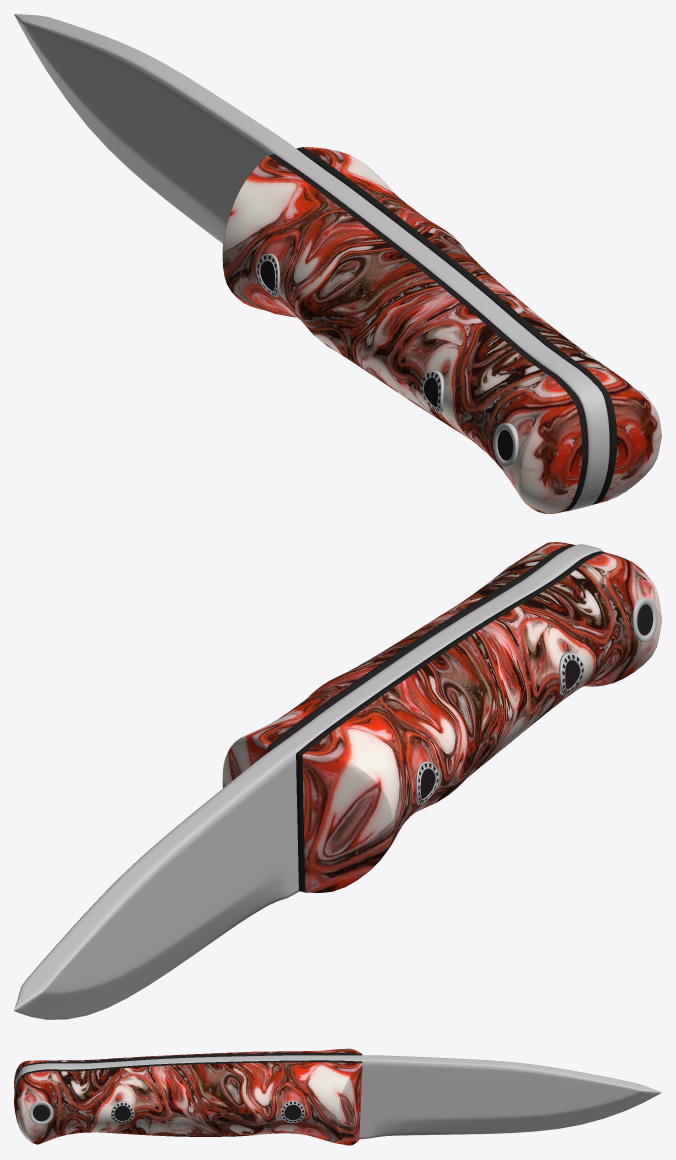
The model's file is knife.obj.
The picture shows the model from 3 angles, top to bottom: view 1: azimuth 30°, elevation 25°; view 2: azimuth 150°, elevation 25°; view 3: azimuth 270°, elevation 25°; orthographic projection. The views are drawn at different scales.
Visible parts, largest first — view 1: grip3_Plane.001, blade_Cube, hole_Cylinder.003, hole.001_Cylinder.002, Cylinder; view 2: grip3_Plane.001, blade_Cube, hole_Cylinder.003, Cylinder, hole.001_Cylinder.002; view 3: grip3_Plane.001, blade_Cube, hole2_Cylinder.004, hole.002_Cylinder.005, Cylinder.002_Cylinder.008.
Boxes of the visible parts, bbox=[...] form: grip3_Plane.001: bbox=[222, 147, 661, 513]; blade_Cube: bbox=[14, 14, 609, 511]; hole_Cylinder.003: bbox=[493, 423, 518, 467]; hole.001_Cylinder.002: bbox=[256, 253, 279, 296]; Cylinder: bbox=[420, 370, 443, 412]; grip3_Plane.001: bbox=[222, 542, 661, 892]; blade_Cube: bbox=[14, 544, 603, 1019]; hole_Cylinder.003: bbox=[633, 598, 657, 641]; Cylinder: bbox=[559, 652, 583, 695]; hole.001_Cylinder.002: bbox=[416, 761, 439, 804]; grip3_Plane.001: bbox=[14, 1048, 362, 1145]; blade_Cube: bbox=[14, 1055, 661, 1139]; hole2_Cylinder.004: bbox=[29, 1100, 53, 1124]; hole.002_Cylinder.005: bbox=[280, 1100, 304, 1122]; Cylinder.002_Cylinder.008: bbox=[111, 1101, 134, 1123].
Size of the model in its own units: 0.7055 by 0.5807 by 4.18.
3 materials, 2 textured.
